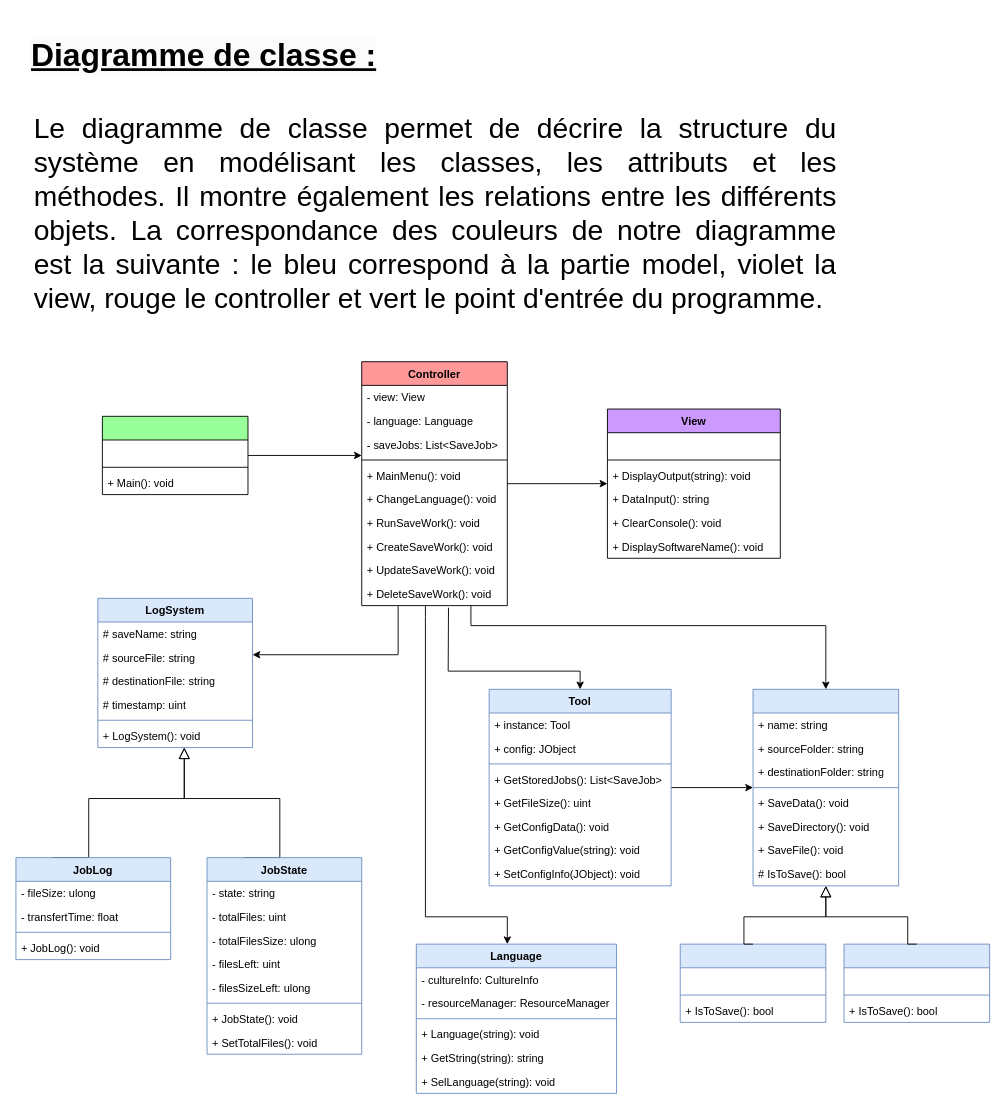
Image size: 1006x1111. Some labels were removed from this diagram. Here are the shapes that lost their labels. From the top down, the box of each, then its label:
(101, 415, 248, 495): Program
(752, 688, 899, 886): SaveJob
(679, 943, 826, 1022): DifferentialSave
(843, 943, 990, 1022): FullSave
